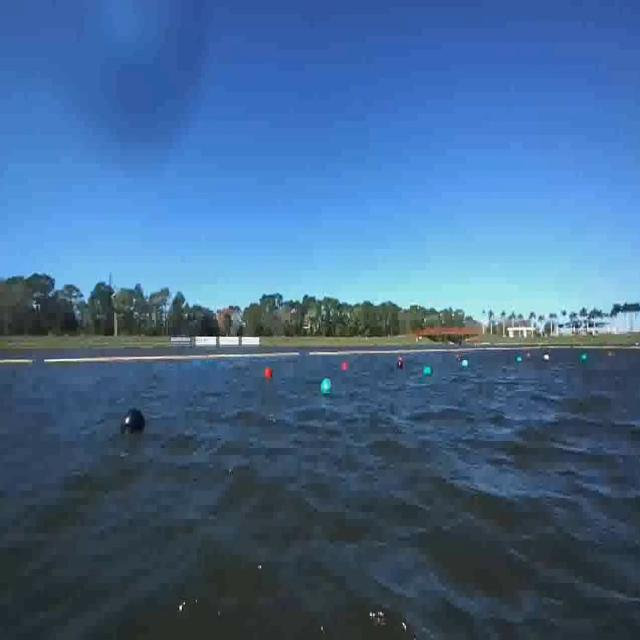black-buoy: (118, 400, 150, 442)
green-buoy: (324, 376, 334, 394), (424, 365, 433, 376)
red-buoy: (266, 367, 274, 377)
